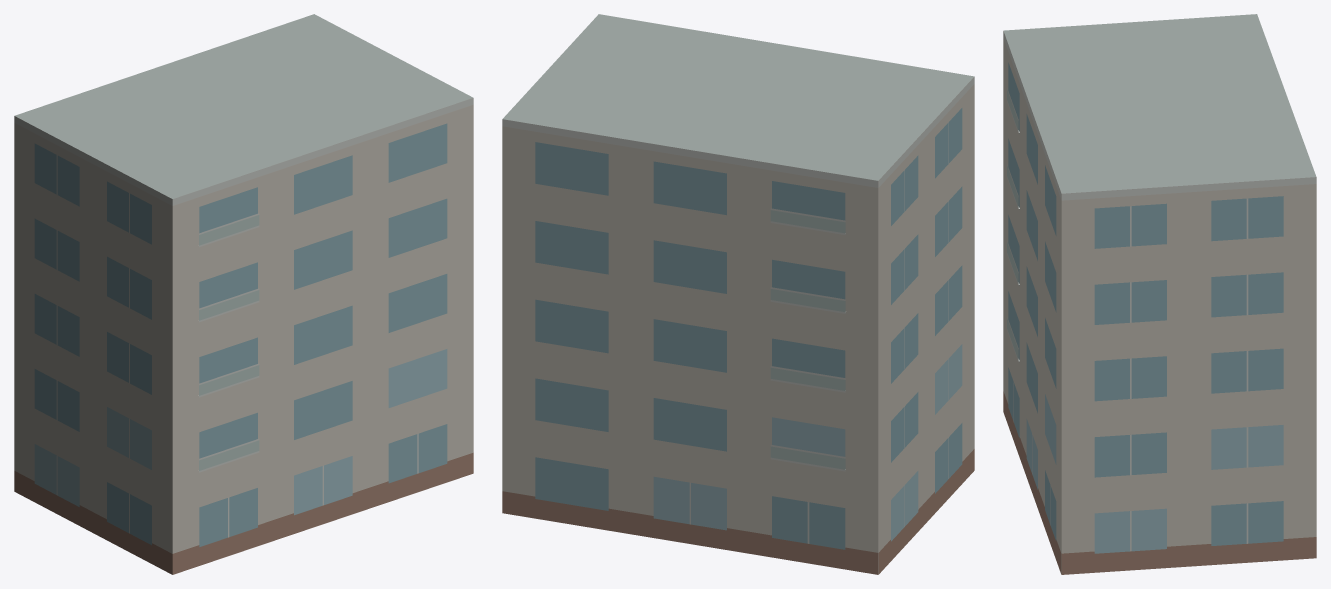
The model's file is survey-upis-32914740.glb.
The picture shows the model from 3 angles, left to right: view 1: azimuth 30°, elevation 25°; view 2: azimuth 150°, elevation 25°; view 3: azimuth 270°, elevation 25°; orthographic projection. The views are drawn at different scales.
Visible parts, largest first — view 1: survey-upis-32914740.tmp; view 2: survey-upis-32914740.tmp; view 3: survey-upis-32914740.tmp.
Boxes of the visible parts, bbox=[...] form: survey-upis-32914740.tmp: bbox=[14, 14, 473, 574]; survey-upis-32914740.tmp: bbox=[502, 14, 974, 574]; survey-upis-32914740.tmp: bbox=[1003, 14, 1316, 574].
Bounding box in the file's own units: 13.56 × 13.4 × 9.99.
